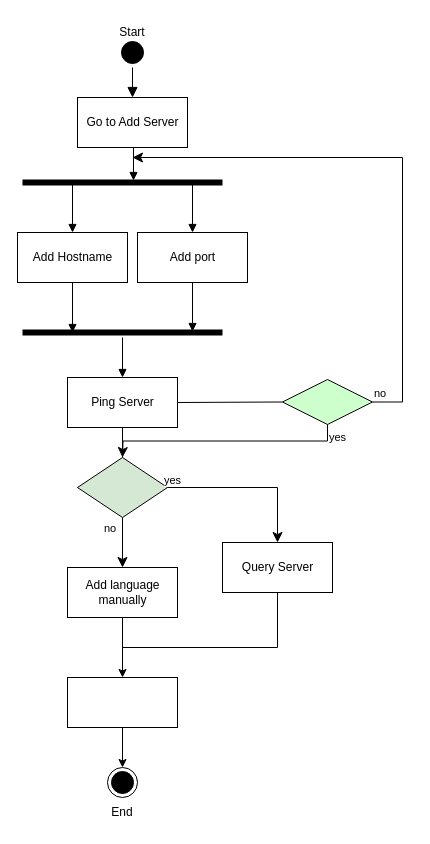
Image size: 430x844. Some labels were removed from this diagram. Here are the shapes that lost their labels. From the top down, the centre of each, then its label:
the point at 327,401: Ping
the point at 122,487: Import languages
the point at 122,702: Add Server
